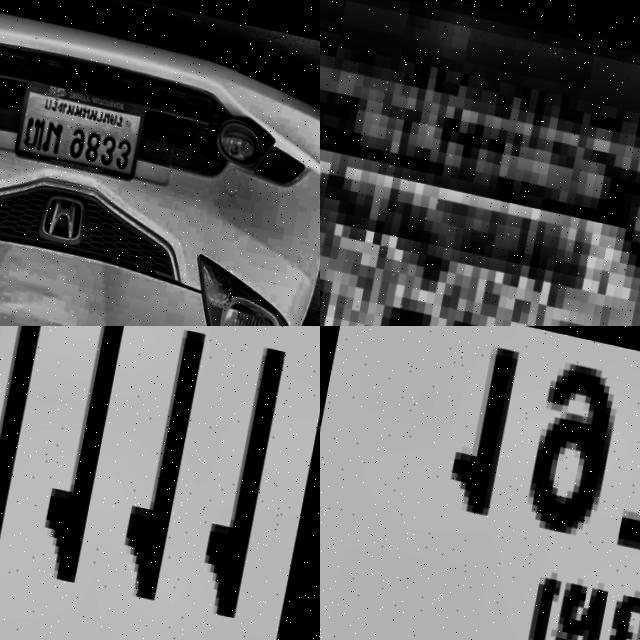license-plate: (0, 326, 320, 640), (320, 326, 640, 640), (320, 39, 640, 326), (13, 74, 148, 179)
